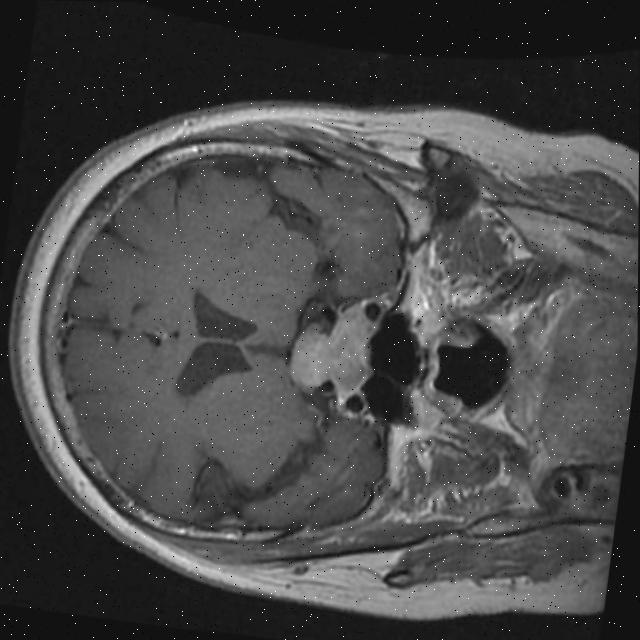Pituitary: (284, 309, 381, 407)
